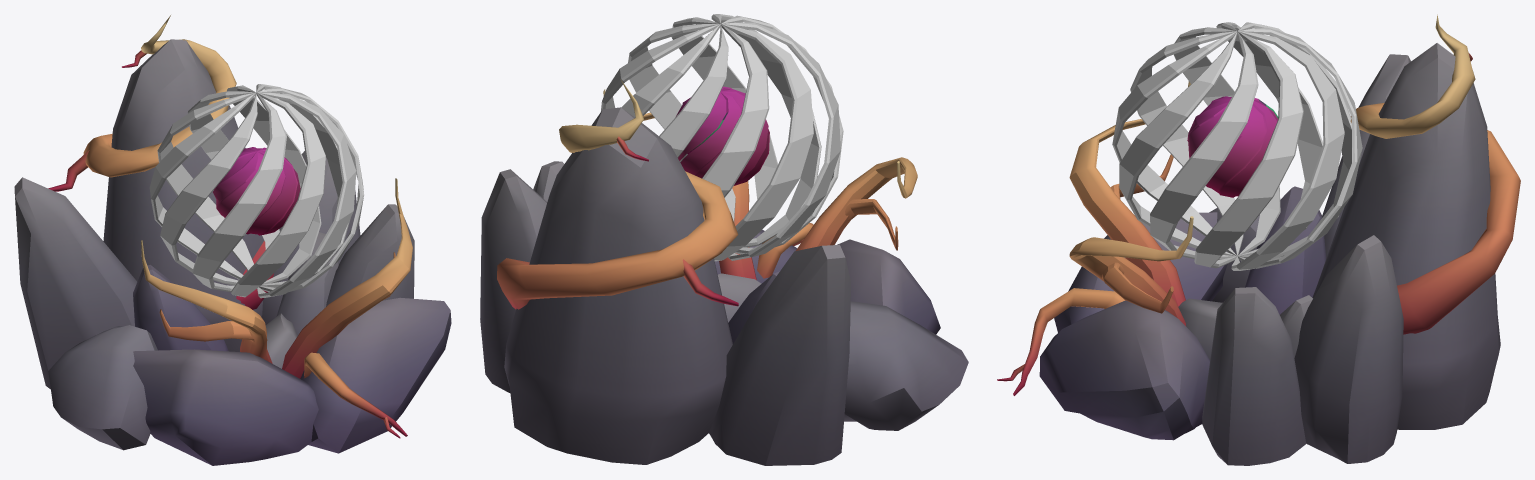
Rendered from Soul_Sphere.fbx.
3 views of the same model, side by side, from view 1: azimuth 30°, elevation 25°; view 2: azimuth 150°, elevation 25°; view 3: azimuth 270°, elevation 25° (orthographic). The views are drawn at different scales.
Visible parts, largest first — view 1: Soul_Sphere_Rocks_001, Soul_Sphere_001, Soul_Sphere_002; view 2: Soul_Sphere_Rocks_001, Soul_Sphere_001, Soul_Sphere_002; view 3: Soul_Sphere_Rocks_001, Soul_Sphere_001, Soul_Sphere_002.
Boxes of the visible parts, x1=… form: Soul_Sphere_Rocks_001: x1=14, y1=15, x2=451, y2=465; Soul_Sphere_001: x1=149, y1=84, x2=364, y2=298; Soul_Sphere_002: x1=213, y1=147, x2=300, y2=235; Soul_Sphere_Rocks_001: x1=480, y1=79, x2=968, y2=465; Soul_Sphere_001: x1=601, y1=14, x2=843, y2=261; Soul_Sphere_002: x1=676, y1=86, x2=769, y2=185; Soul_Sphere_Rocks_001: x1=997, y1=14, x2=1520, y2=465; Soul_Sphere_001: x1=1112, y1=22, x2=1362, y2=270; Soul_Sphere_002: x1=1187, y1=96, x2=1278, y2=197.
Bounding box in the file's own units: 9.58 × 8.07 × 10.5.
